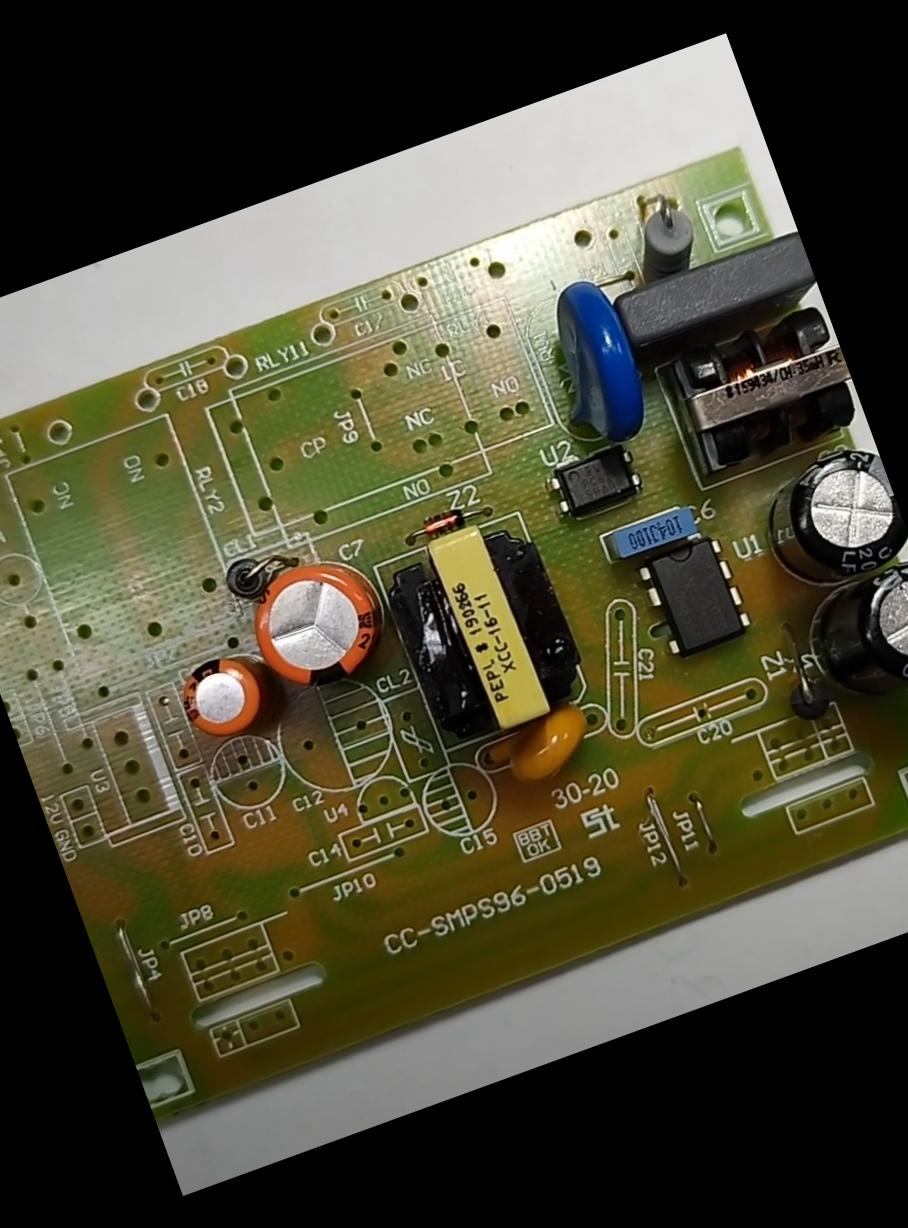Cap1: (221, 517, 414, 728)
Cap2: (152, 626, 289, 768)
Cap3: (732, 426, 907, 610)
Cap4: (771, 542, 907, 733)
MOSFET: (621, 514, 762, 674)
Mov: (513, 259, 670, 472)
Resistor: (607, 176, 721, 290)
Transformer: (362, 491, 607, 774), (644, 286, 869, 491)
